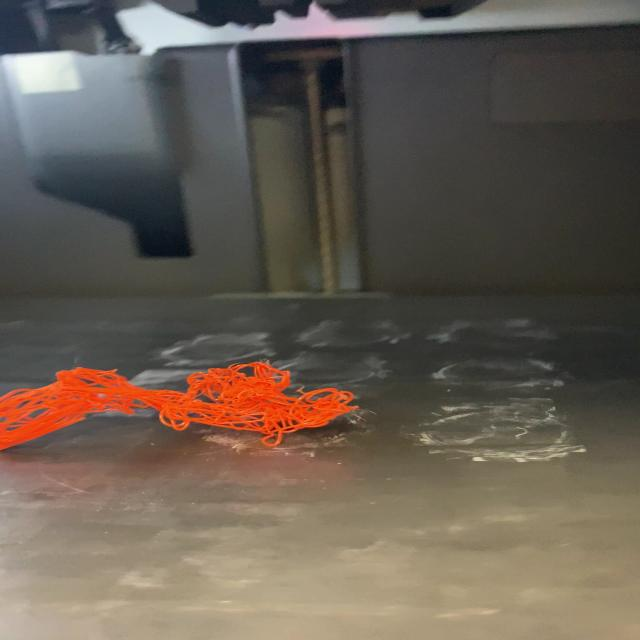spaghetti: (2, 358, 373, 453)
